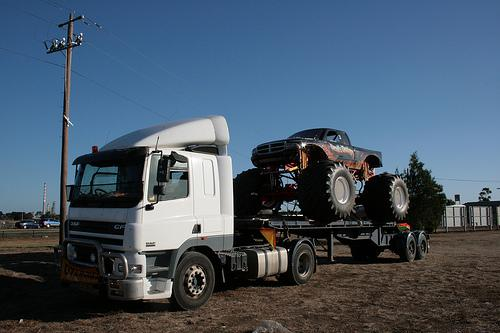truck: (52, 114, 431, 311)
